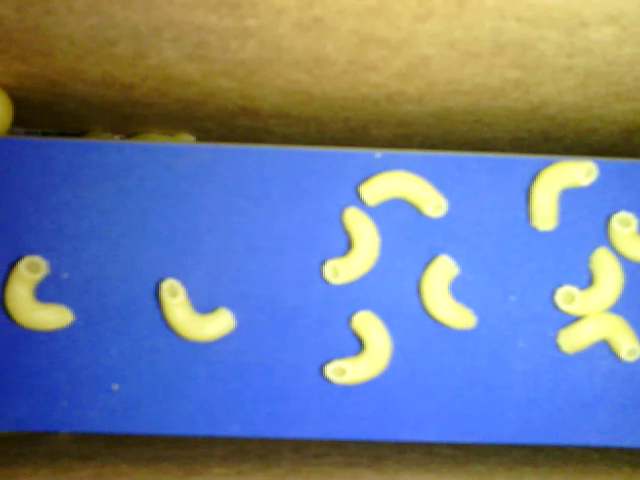elbow: (322, 308, 393, 388), (4, 256, 75, 335), (155, 278, 238, 344), (528, 159, 599, 233), (555, 247, 625, 321), (358, 169, 452, 224), (414, 252, 478, 332), (321, 206, 382, 287), (556, 313, 639, 366), (607, 211, 638, 267)
